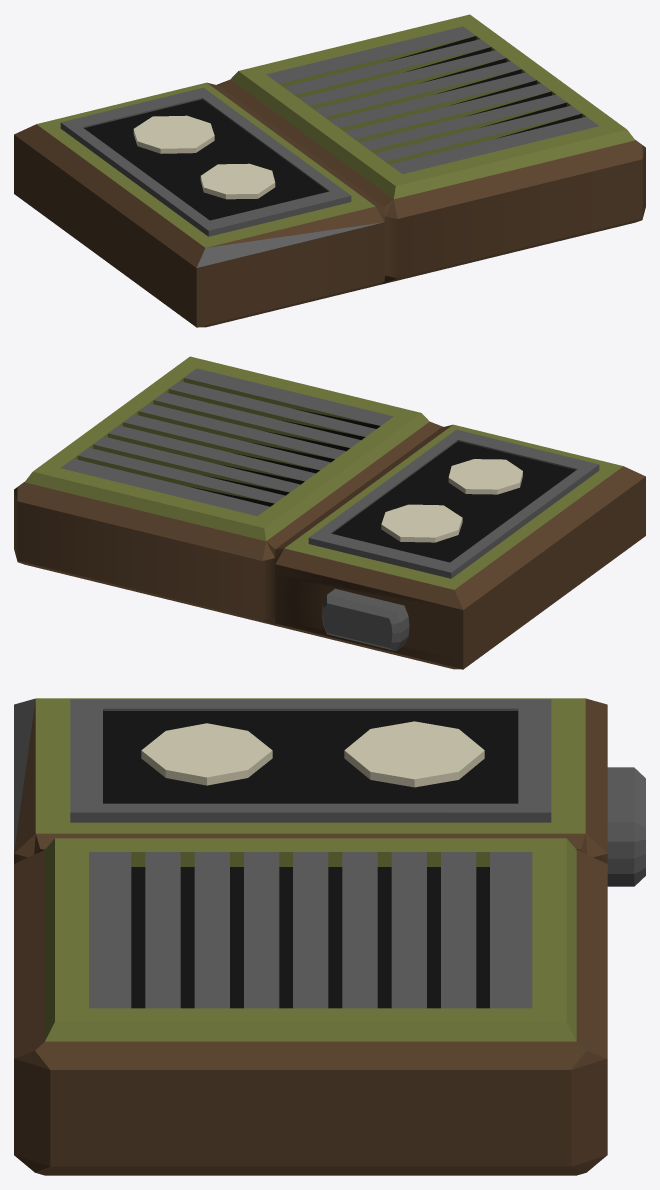
The model's file is Grabadora Base.fbx.
The picture shows the model from 3 angles, top to bottom: view 1: azimuth 30°, elevation 25°; view 2: azimuth 150°, elevation 25°; view 3: azimuth 270°, elevation 25°; orthographic projection. The views are drawn at different scales.
Parts seen in each view (by area): view 1: Box002.001; view 2: Box002.001; view 3: Box002.001.
Part boxes in pixels (left/top/right/bottom): Box002.001: left=14, top=14, right=645, bottom=327; Box002.001: left=14, top=356, right=645, bottom=669; Box002.001: left=14, top=698, right=645, bottom=1175.
Bounding box in the file's own units: 350 × 66.78 × 256.
